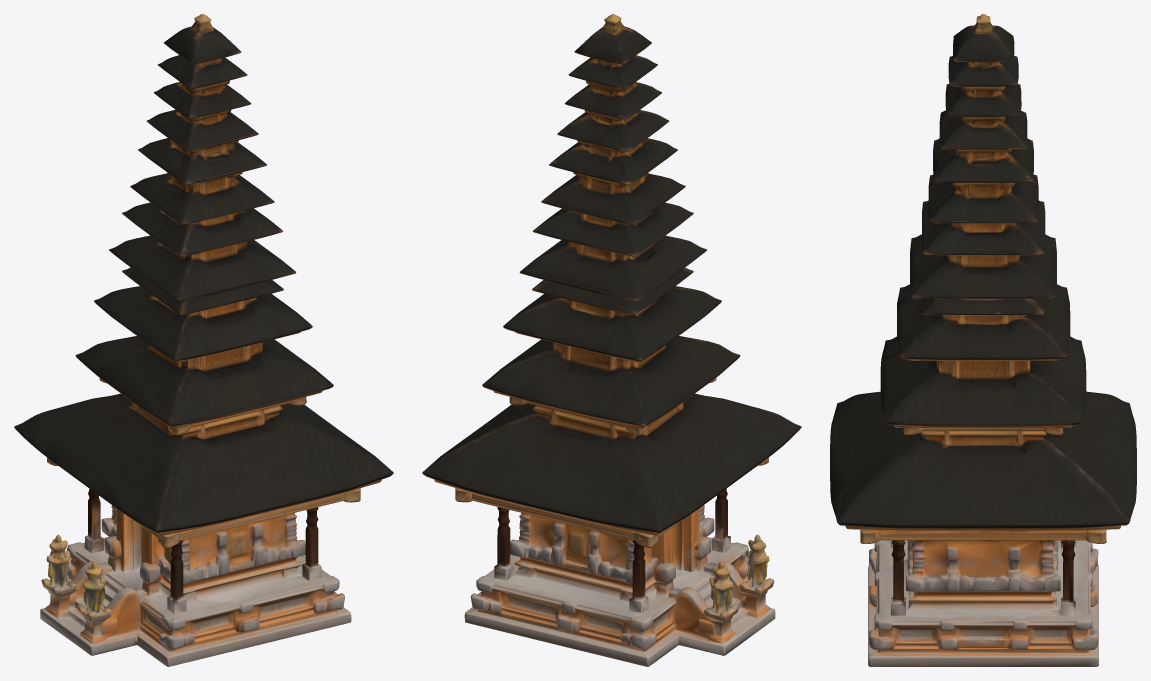
The model's file is bali.glb.
3 views of the same model, side by side, from view 1: azimuth 30°, elevation 25°; view 2: azimuth 150°, elevation 25°; view 3: azimuth 270°, elevation 25° (orthographic). The views are drawn at different scales.
Parts seen in each view (by area): view 1: material_Material.002_0; view 2: material_Material.002_0; view 3: material_Material.002_0.
Part boxes in pixels (x1,y1,x2,y2): material_Material.002_0: (14, 14, 393, 666); material_Material.002_0: (422, 14, 801, 666); material_Material.002_0: (830, 14, 1136, 666).
Size of the model in its own units: 0.5002 by 1.08 by 0.4945.
1 material, 1 textured.
